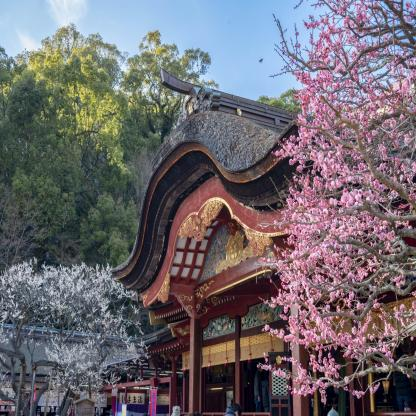Ume: (255, 0, 416, 401), (0, 258, 150, 415)
